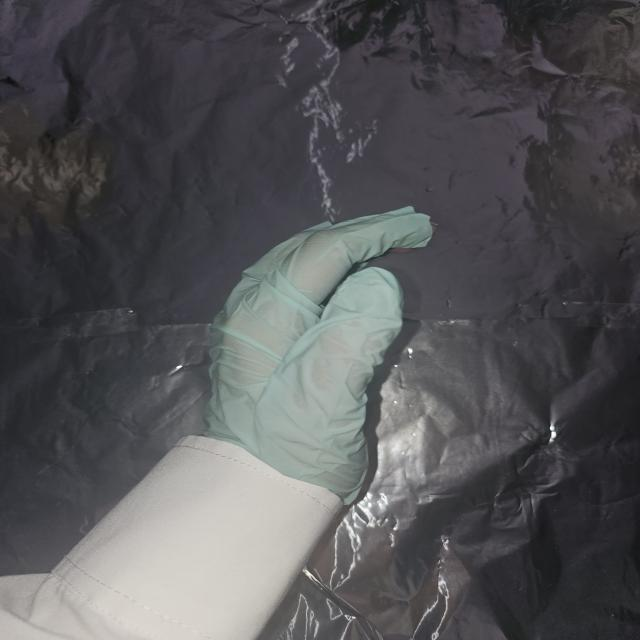gloves_damaged: (204, 202, 442, 512)
